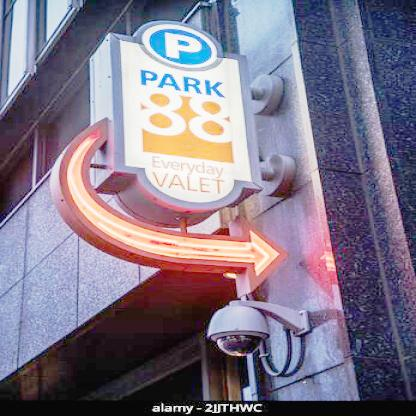Parking: (139, 25, 226, 70)
